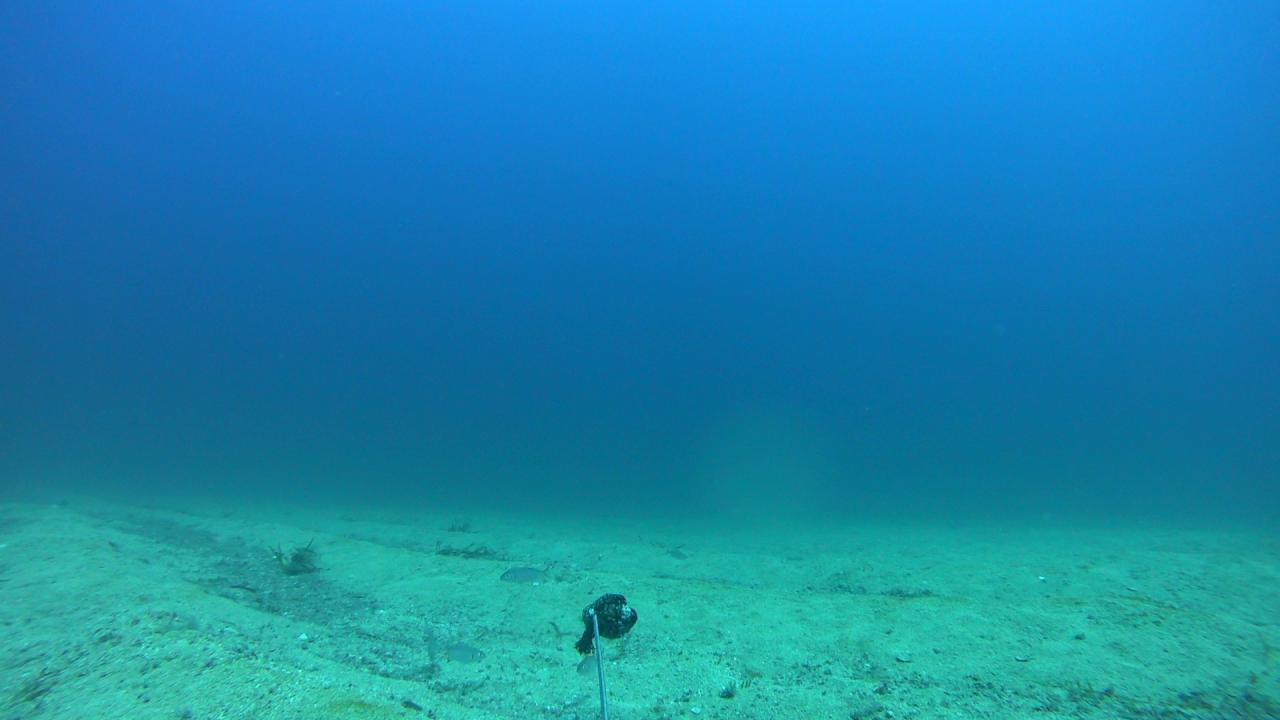pagellus: (427, 644, 495, 666), (499, 562, 551, 584), (577, 652, 601, 679)
